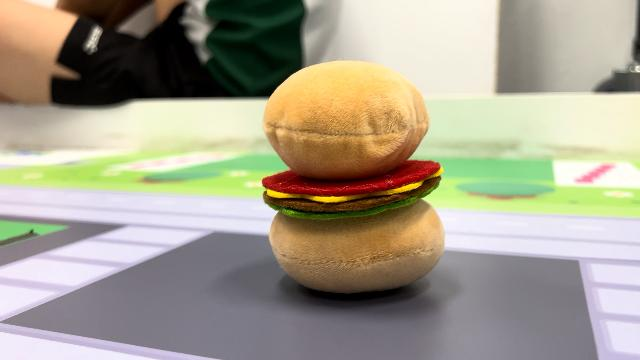burger: (255, 56, 451, 296)
